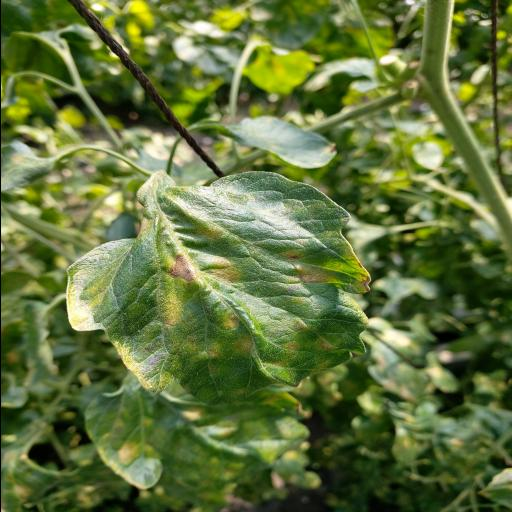Leaf Mold: (62, 171, 372, 407)
